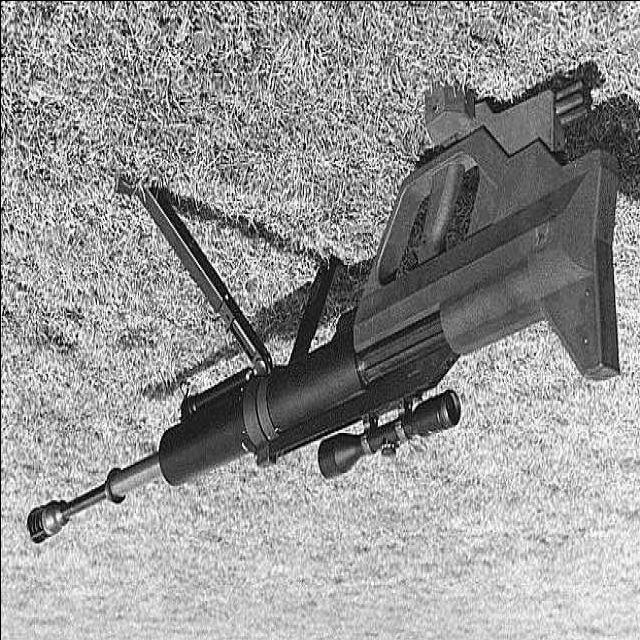heavyweapon: (22, 70, 622, 552)
